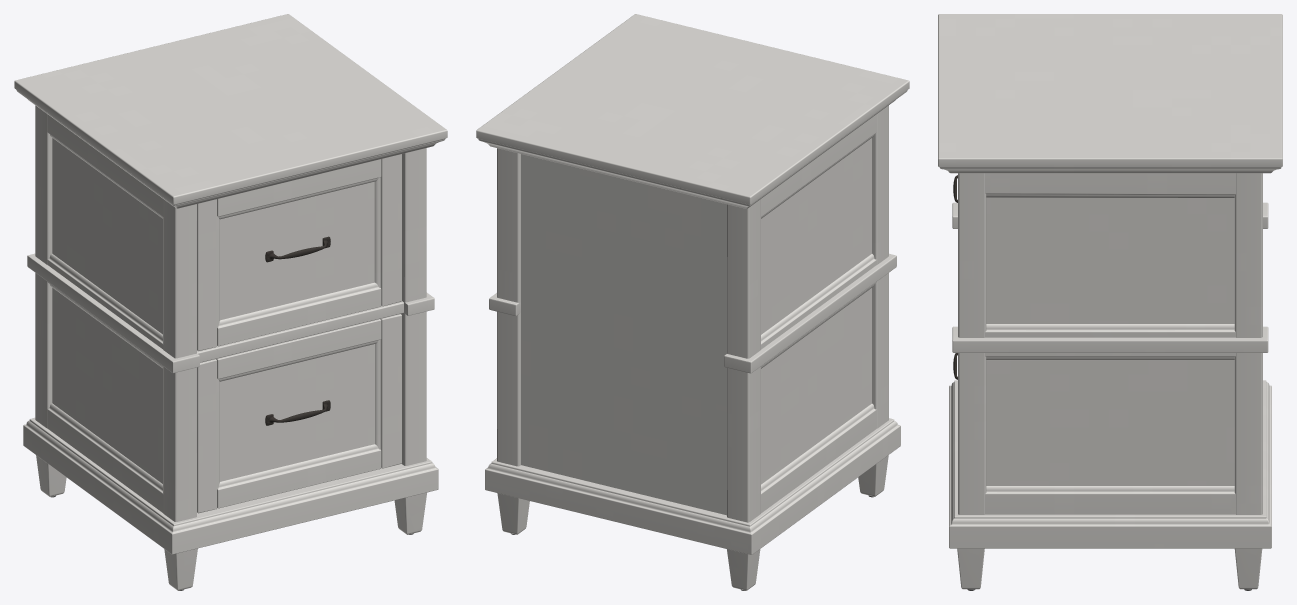
File: abo-B07QFB1L2P.glb
3 renders of one model, left to right at view 1: azimuth 30°, elevation 25°; view 2: azimuth 150°, elevation 25°; view 3: azimuth 270°, elevation 25°, orthographic. The views are drawn at different scales.
Bounding box in the file's own units: 0.544 × 0.775 × 0.547.
Materials: 1 (1 with a texture image).
